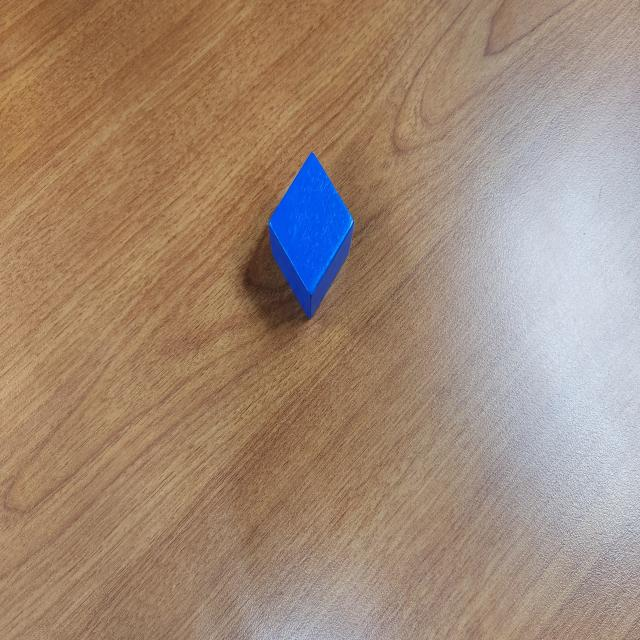blue: (268, 152, 355, 319)
